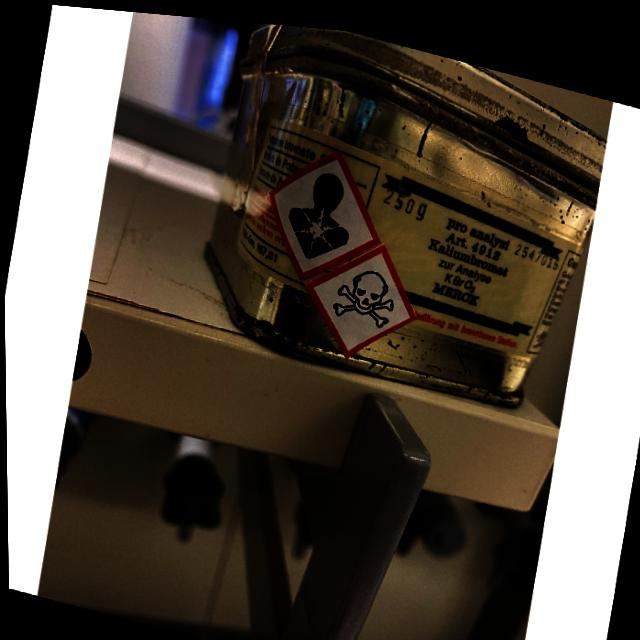acute toxicity: (330, 255, 397, 323)
serious health hazard: (281, 158, 358, 262)
